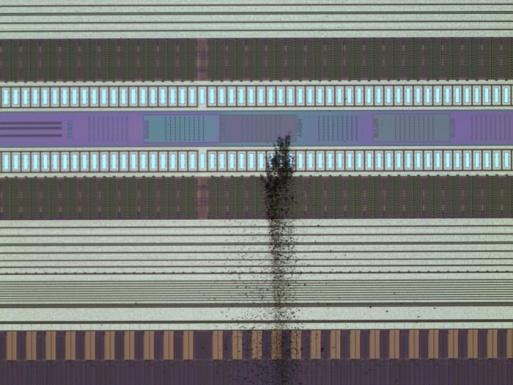PO CONTAMINATION: (189, 131, 443, 385)
